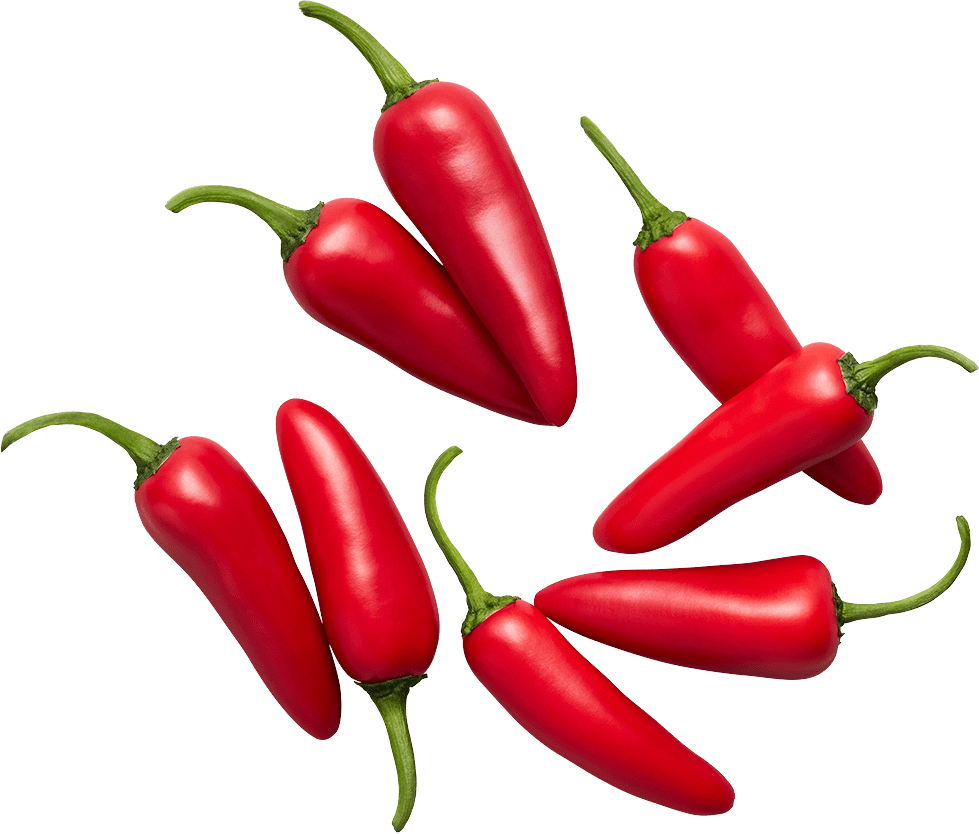Cabai: (200, 25, 601, 443)
